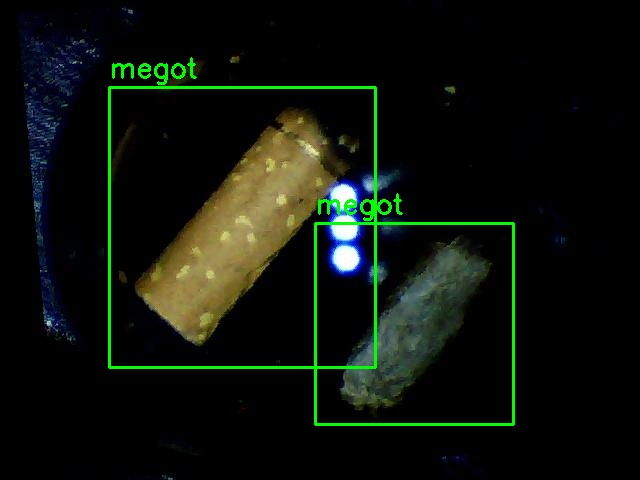megot: (109, 87, 375, 367), (315, 223, 513, 424)
